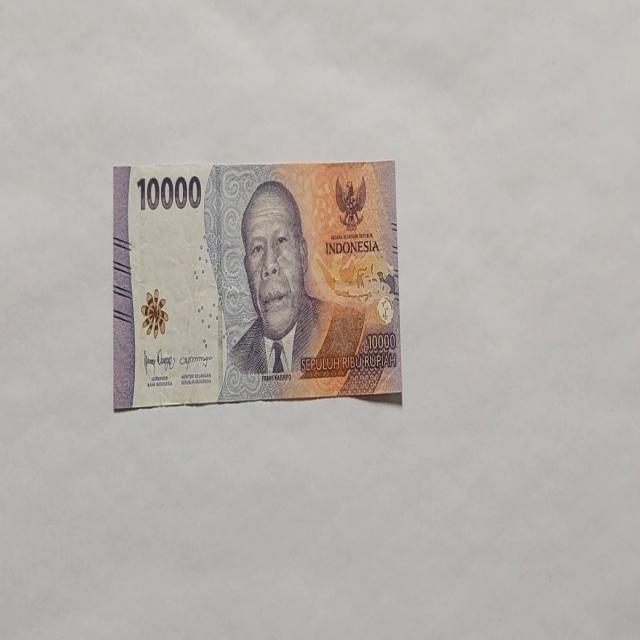sepuluh ribu rupiah: (111, 158, 402, 411)
